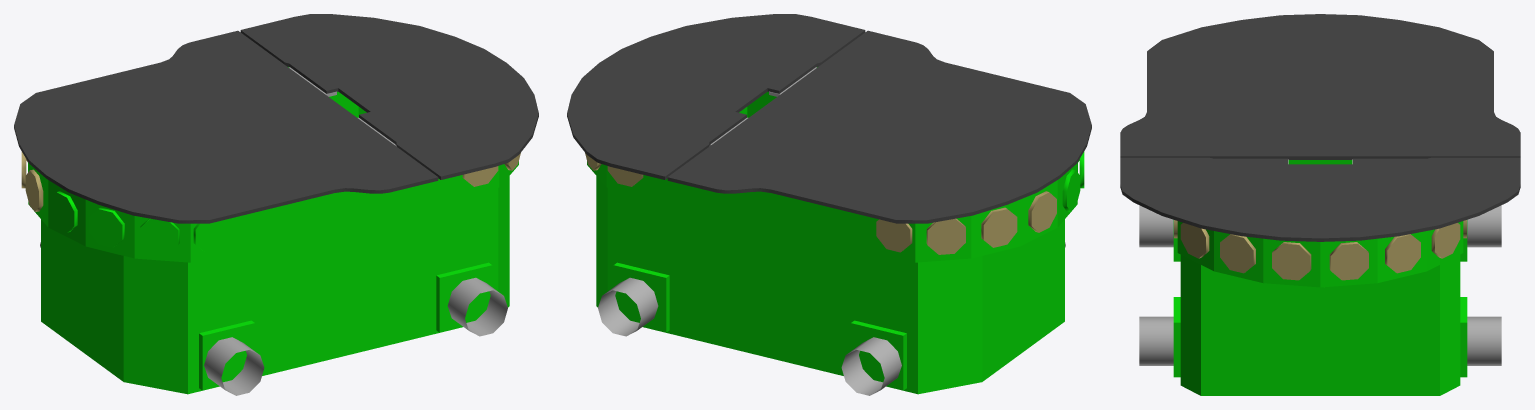
File: chassis_g.dae
3 views of the same model, side by side, from view 1: azimuth 30°, elevation 25°; view 2: azimuth 150°, elevation 25°; view 3: azimuth 270°, elevation 25° (orthographic).
Parts seen in each view (by area): view 1: Cube_001, Plane_001, Cylinder_003, Plane_007, Plane_002, Plane_006, Plane_005, Cylinder_002, Cylinder; view 2: Cube_001, Plane_001, Cylinder_002, Plane_012, Plane_015, Plane_013, Plane_014, Cylinder_003, Cylinder_001; view 3: Cube_001, Plane_001, Cylinder, Cylinder_001, Plane_007, Plane_012, Plane_002, Plane_015, Plane_006, Plane_013.
Boxes of the visible parts, box(x1,y1,x2,y2) form: Cube_001: box(14, 14, 538, 223); Plane_001: box(28, 67, 518, 394); Cylinder_003: box(49, 191, 229, 254); Plane_007: box(447, 277, 507, 336); Plane_002: box(204, 337, 264, 395); Plane_006: box(436, 262, 492, 332); Plane_005: box(199, 320, 254, 390); Cylinder_002: box(21, 151, 43, 211); Cylinder: box(462, 153, 520, 186); Cube_001: box(567, 14, 1091, 223); Plane_001: box(587, 67, 1077, 394); Cylinder_002: box(876, 191, 1056, 254); Plane_012: box(598, 277, 658, 336); Plane_015: box(841, 337, 901, 395); Plane_013: box(613, 262, 669, 332); Plane_014: box(851, 320, 906, 390); Cylinder_003: box(1062, 151, 1084, 211); Cylinder_001: box(585, 153, 643, 186); Cube_001: box(1120, 14, 1520, 241); Plane_001: box(1177, 160, 1463, 395); Cylinder: box(1174, 220, 1311, 280); Cylinder_001: box(1329, 220, 1466, 280); Plane_007: box(1139, 316, 1173, 365); Plane_012: box(1467, 316, 1501, 365); Plane_002: box(1139, 205, 1173, 247); Plane_015: box(1467, 205, 1501, 247); Plane_006: box(1173, 297, 1180, 377); Plane_013: box(1460, 297, 1467, 377).
Bounding box in the file's own units: 0.5106 × 0.3831 × 0.1956.
